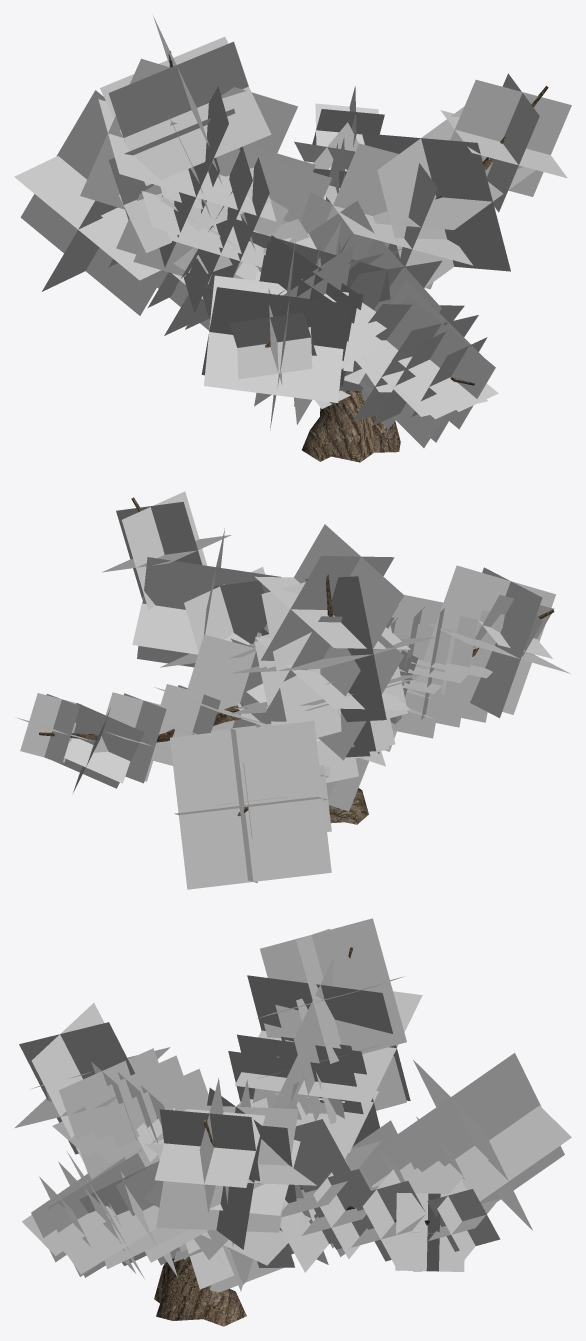
The model's file is arbre.FBX.
3 renders of one model, top to bottom at view 1: azimuth 30°, elevation 25°; view 2: azimuth 150°, elevation 25°; view 3: azimuth 270°, elevation 25°, orthographic. The views are drawn at different scales.
Parts seen in each view (by area): view 1: Plane059, Arbre; view 2: Plane059, Arbre; view 3: Plane059, Arbre.
Part boxes in pixels (x1,y1,x2,y2): Plane059: [14, 16, 571, 447]; Arbre: [168, 51, 548, 462]; Plane059: [15, 491, 570, 889]; Arbre: [39, 497, 554, 824]; Plane059: [14, 918, 571, 1292]; Arbre: [154, 947, 429, 1326].
Bounding box in the file's own units: 494 × 412 × 607.
